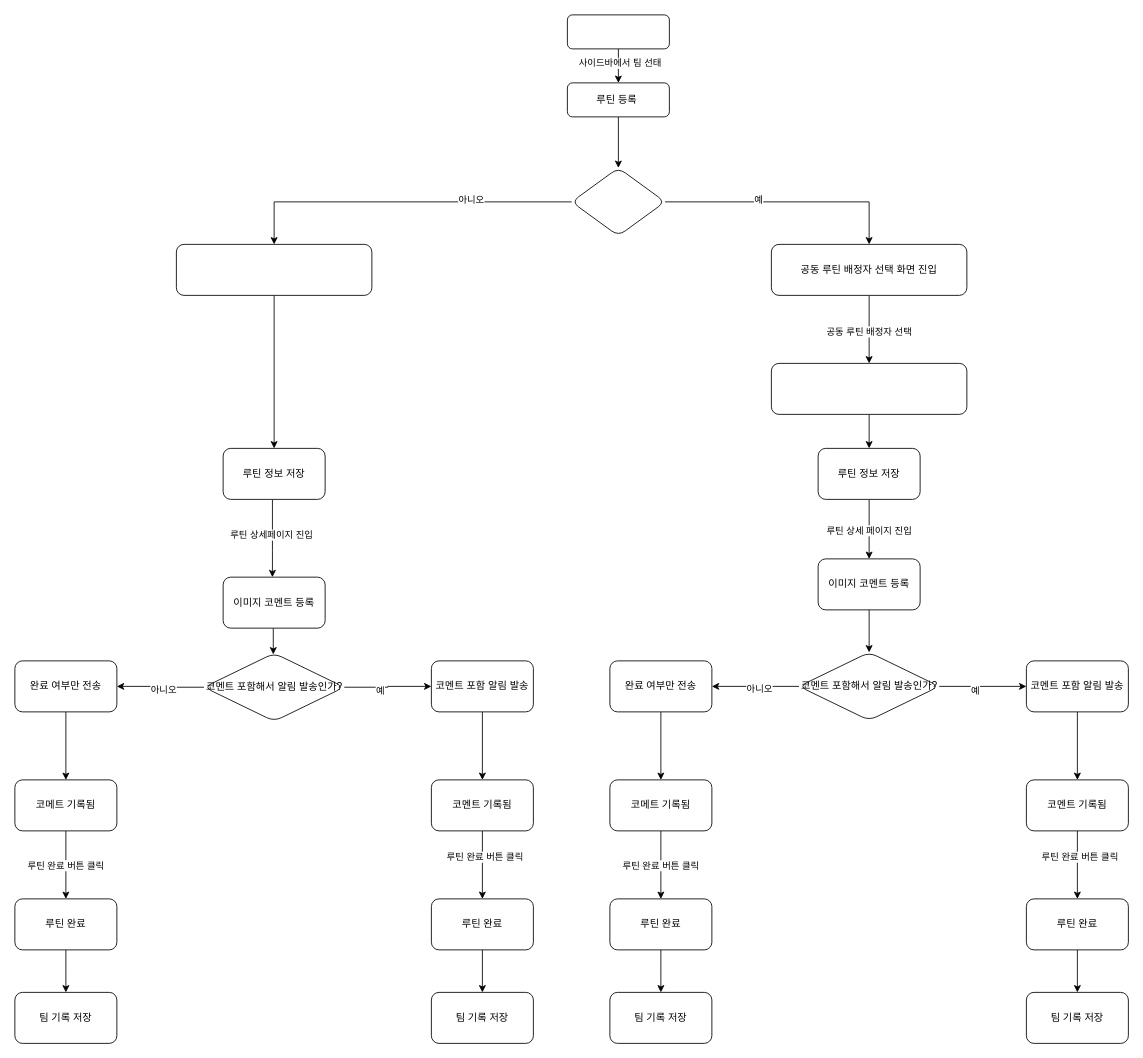
Some shapes in this 1143 by 1058 pixel diagram are drawn without their labels. The shapes that lost their labels are listed below. From the top down, each one's centre as x and y in pixels, then its label:
At (618,31): "팀 사용자".
At (618,201): "공동 루틴 인가?".
At (274,269): "루틴 간편등록( 카테고리, 제목, 내용, 등록자)".
At (869,388): "루틴 간편등록( 카테고리, 제목, 내용, 배정자)".
